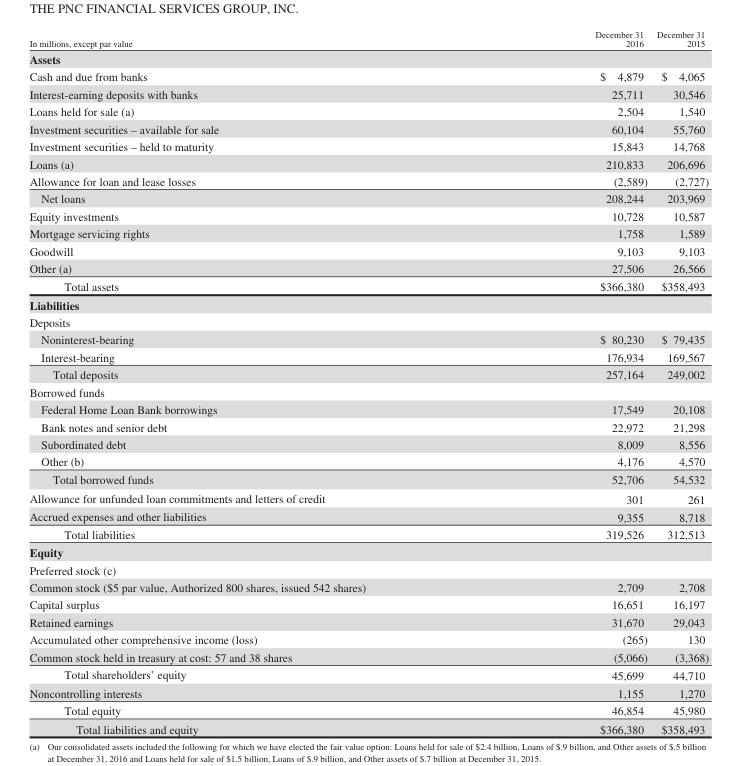table: (28, 28, 708, 735)
table column: (28, 28, 479, 735), (479, 28, 651, 735), (651, 28, 708, 735)
table column header: (28, 28, 708, 50)
table projected row header: (28, 295, 708, 313), (28, 382, 708, 400), (28, 542, 708, 560), (28, 560, 708, 578), (28, 50, 708, 67), (28, 313, 708, 330)
table row: (28, 28, 708, 50), (28, 488, 708, 507), (28, 67, 708, 85), (28, 102, 708, 120), (28, 154, 708, 172), (28, 189, 708, 207), (28, 224, 708, 242), (28, 259, 708, 277), (28, 277, 708, 295), (28, 295, 708, 313), (28, 330, 708, 348), (28, 382, 708, 400), (28, 417, 708, 435), (28, 452, 708, 470), (28, 470, 708, 488), (28, 507, 708, 525), (28, 542, 708, 560), (28, 560, 708, 578), (28, 595, 708, 613), (28, 630, 708, 648), (28, 665, 708, 683), (28, 683, 708, 701), (28, 701, 708, 719), (28, 50, 708, 67), (28, 85, 708, 102), (28, 120, 708, 137), (28, 137, 708, 154), (28, 172, 708, 189), (28, 207, 708, 224), (28, 242, 708, 259), (28, 313, 708, 330), (28, 348, 708, 365), (28, 365, 708, 382), (28, 400, 708, 417), (28, 435, 708, 452), (28, 525, 708, 542), (28, 578, 708, 595), (28, 613, 708, 630), (28, 648, 708, 665), (28, 719, 708, 735)
